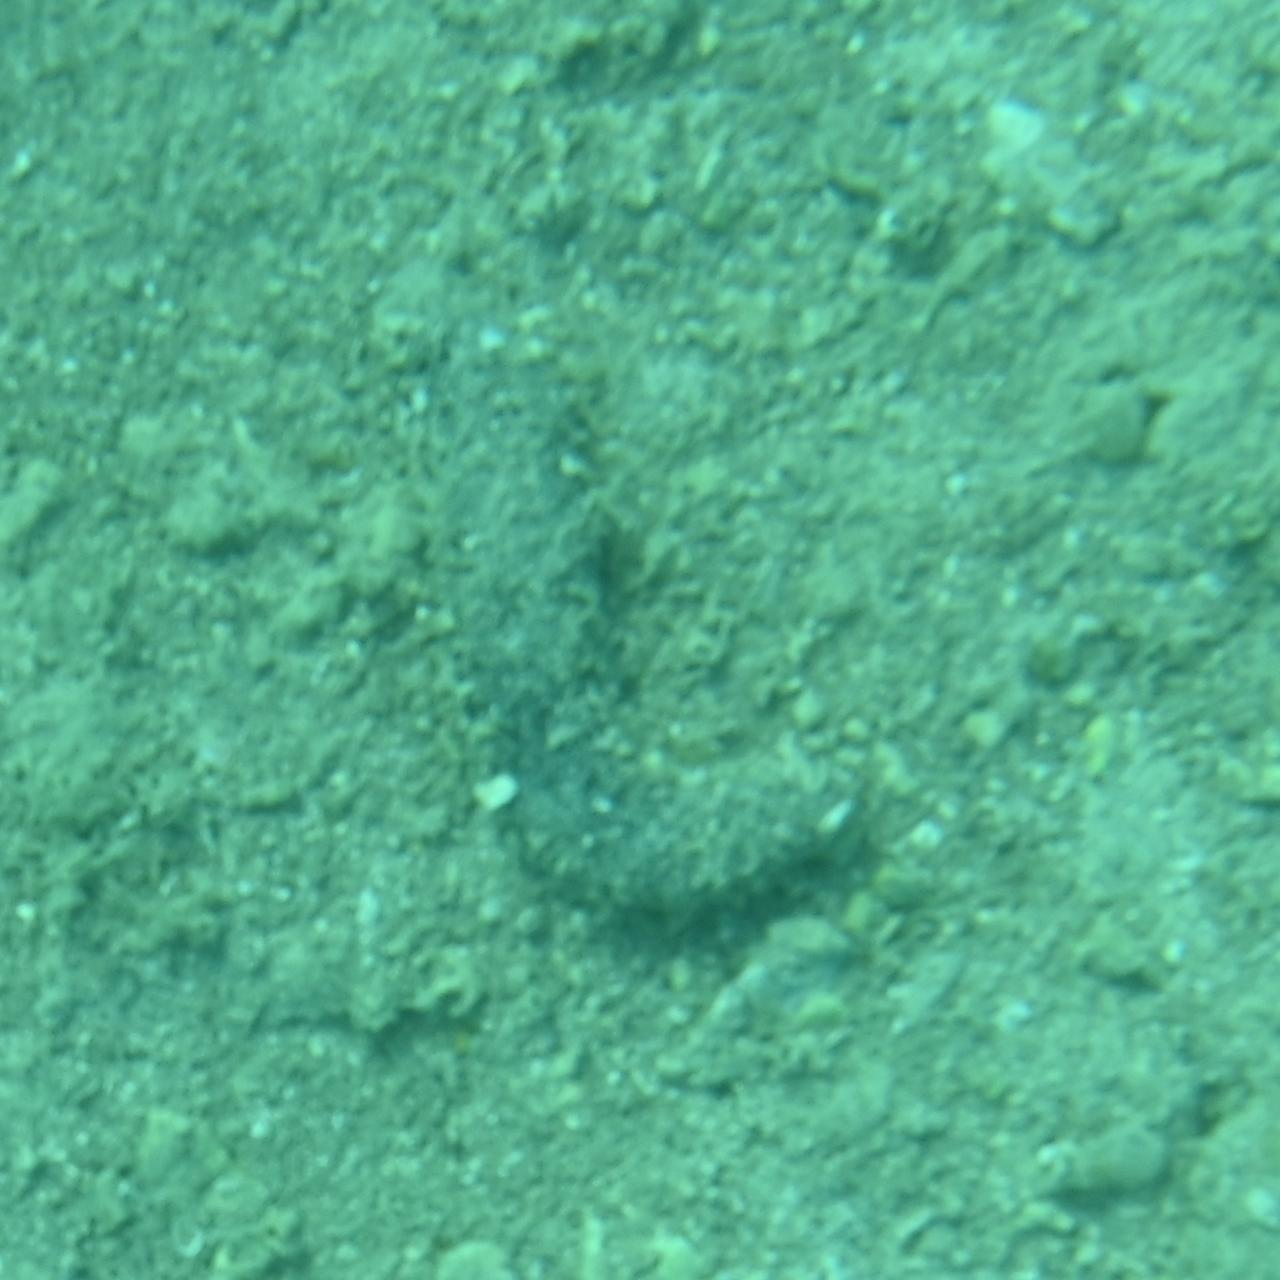Holothuria tubulosa: (394, 314, 886, 966)
